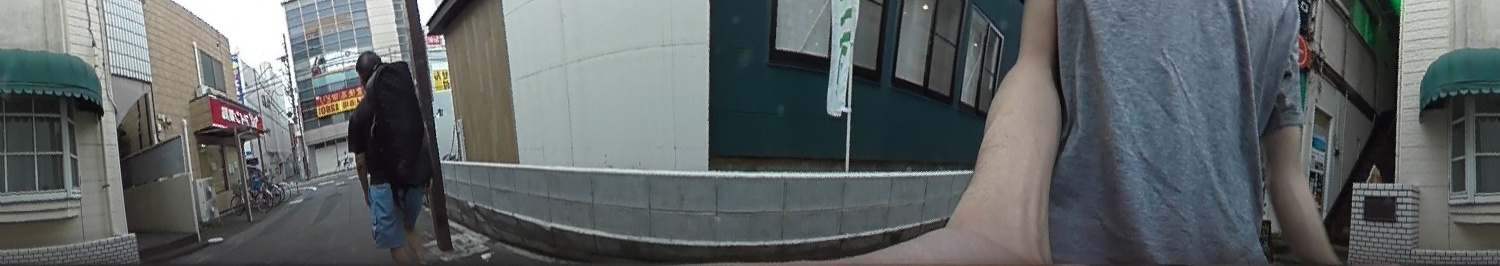person: (342, 48, 426, 266)
